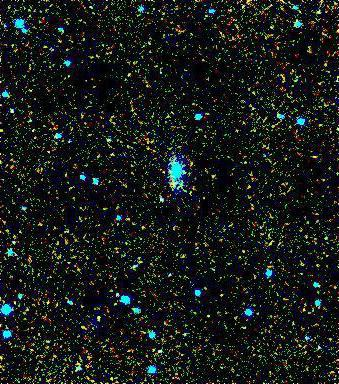star: (200, 161, 230, 191)
